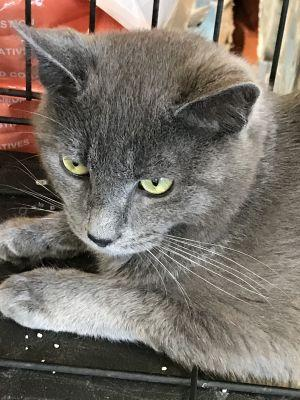rblue: (1, 1, 264, 299)
